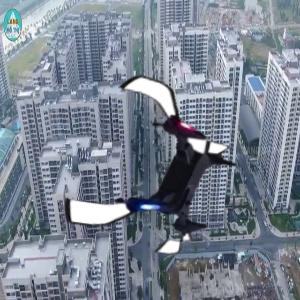drone: (63, 74, 246, 257)
